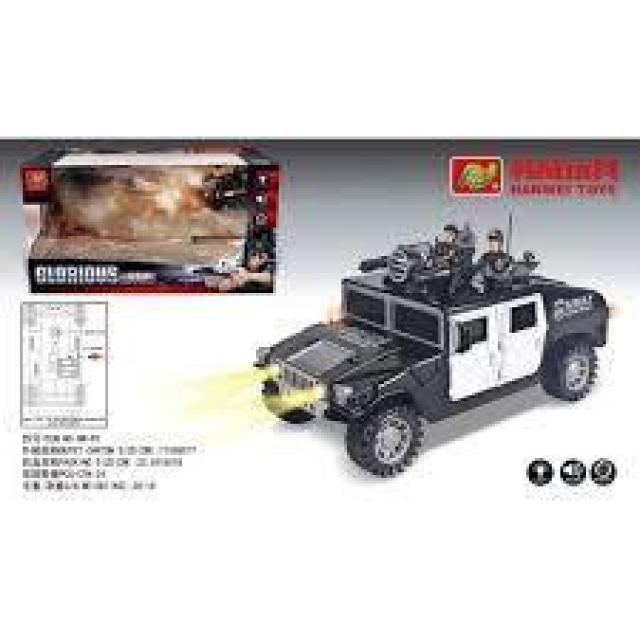Tanks: (249, 195, 570, 519)
